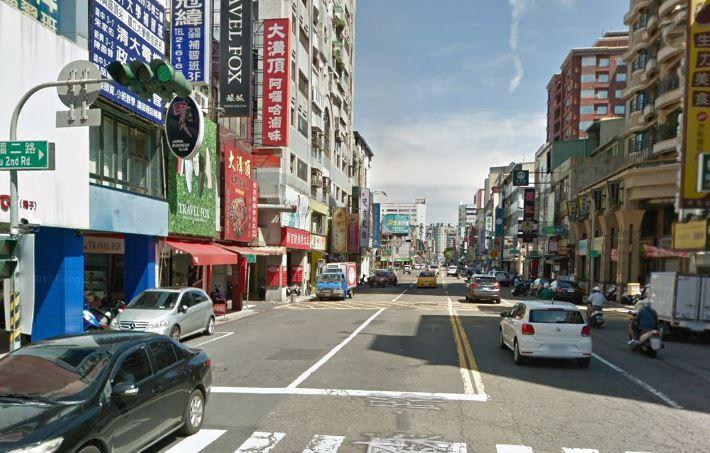car: (0, 331, 216, 453), (103, 284, 221, 346), (498, 296, 596, 368), (462, 272, 502, 303), (367, 268, 401, 288), (416, 267, 439, 288)
green_traffic_light: (103, 61, 194, 99)
motorcycle: (623, 308, 666, 356), (586, 285, 608, 325)
truck: (317, 259, 360, 301)
